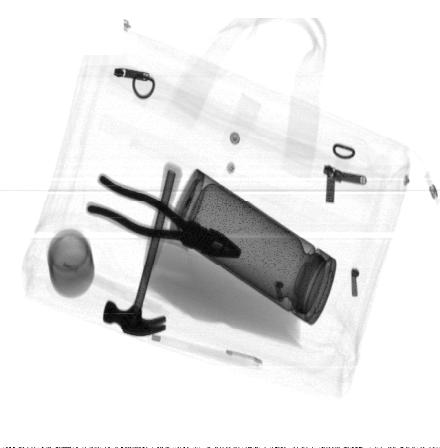Hammer: (101, 162, 184, 338)
Pliers: (85, 173, 243, 259)
